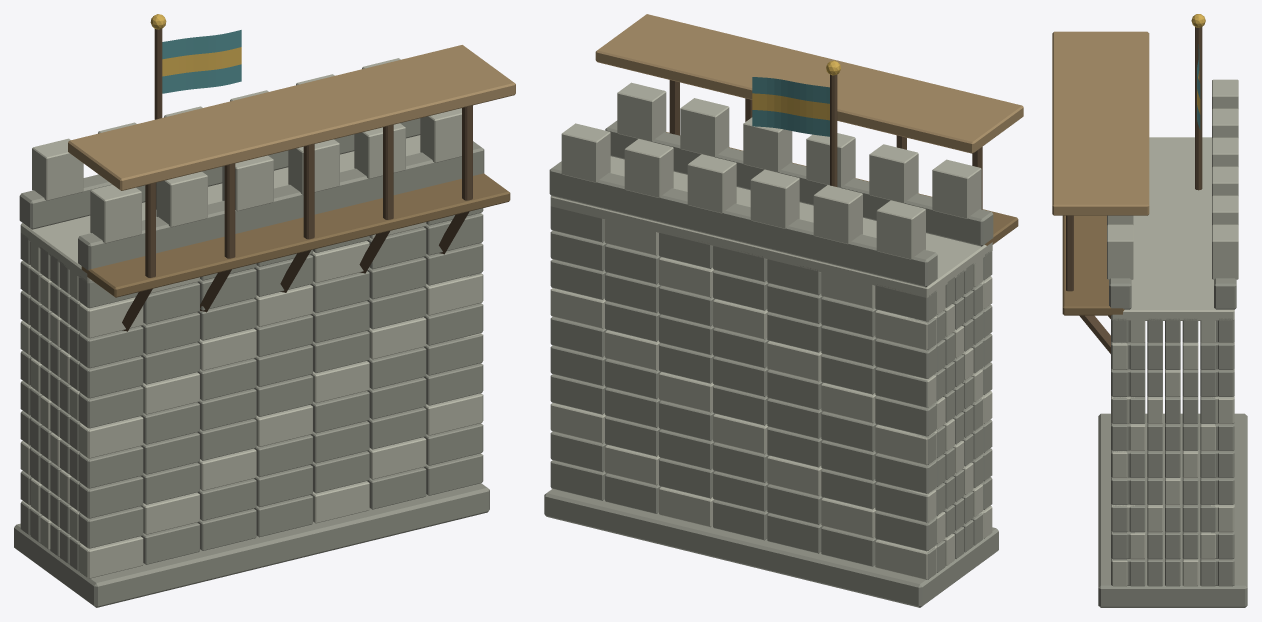
Rendered from castle-wall.glb.
3 renders of one model, left to right at view 1: azimuth 30°, elevation 25°; view 2: azimuth 150°, elevation 25°; view 3: azimuth 270°, elevation 25°, orthographic. The views are drawn at different scales.
Visible parts, largest first — view 1: TimberHoarding_mesh, Battlements_mesh, Foundation_mesh, WallCourse.001_mesh, WallCourse.003_mesh, WallCourse.005_mesh, WallCourse.006_mesh, WallCourse_mesh, WallCourse.002_mesh, WallCourse.004_mesh, WallCourse.007_mesh, WallCourse.008_mesh (+4 smaller); view 2: Battlements_mesh, TimberHoarding_mesh, Foundation_mesh, WallCourse.007_mesh, WallCourse.002_mesh, WallCourse.004_mesh, WallCourse.006_mesh, WallCourse.001_mesh, WallCourse_mesh, WallCourse.003_mesh, WallCourse.005_mesh, WallCourse.008_mesh (+4 smaller); view 3: TimberHoarding_mesh, WallWalk_mesh, Foundation_mesh, Battlements_mesh, WallCourse.002_mesh, WallCourse.001_mesh, WallCourse.008_mesh, WallCourse_mesh, WallCourse.003_mesh, WallCourse.004_mesh, WallCourse.005_mesh, WallCourse.006_mesh (+3 smaller).
Part boxes in pixels (bbox=[...]): TimberHoarding_mesh: bbox=[68, 45, 515, 331]; Battlements_mesh: bbox=[19, 58, 484, 270]; Foundation_mesh: bbox=[14, 483, 489, 607]; WallCourse.001_mesh: bbox=[20, 423, 483, 548]; WallCourse.003_mesh: bbox=[20, 363, 483, 488]; WallCourse.005_mesh: bbox=[20, 303, 483, 428]; WallCourse.006_mesh: bbox=[20, 273, 483, 398]; WallCourse_mesh: bbox=[20, 453, 483, 578]; WallCourse.002_mesh: bbox=[20, 393, 483, 518]; WallCourse.004_mesh: bbox=[20, 333, 483, 458]; WallCourse.007_mesh: bbox=[20, 243, 483, 368]; WallCourse.008_mesh: bbox=[20, 213, 483, 338]; Battlements_mesh: bbox=[549, 82, 993, 287]; TimberHoarding_mesh: bbox=[595, 14, 1023, 245]; Foundation_mesh: bbox=[544, 488, 998, 607]; WallCourse.007_mesh: bbox=[550, 259, 992, 378]; WallCourse.002_mesh: bbox=[550, 403, 992, 522]; WallCourse.004_mesh: bbox=[550, 345, 992, 465]; WallCourse.006_mesh: bbox=[550, 288, 992, 407]; WallCourse.001_mesh: bbox=[550, 431, 992, 551]; WallCourse_mesh: bbox=[550, 460, 992, 579]; WallCourse.003_mesh: bbox=[550, 374, 992, 493]; WallCourse.005_mesh: bbox=[550, 316, 992, 436]; WallCourse.008_mesh: bbox=[550, 230, 992, 350]; TimberHoarding_mesh: bbox=[1052, 31, 1149, 353]; WallWalk_mesh: bbox=[1111, 137, 1234, 320]; Foundation_mesh: bbox=[1098, 413, 1247, 607]; Battlements_mesh: bbox=[1107, 79, 1238, 309]; WallCourse.002_mesh: bbox=[1111, 504, 1234, 532]; WallCourse.001_mesh: bbox=[1111, 531, 1234, 559]; WallCourse.008_mesh: bbox=[1111, 342, 1234, 369]; WallCourse_mesh: bbox=[1111, 558, 1234, 586]; WallCourse.003_mesh: bbox=[1111, 477, 1234, 504]; WallCourse.004_mesh: bbox=[1111, 450, 1234, 477]; WallCourse.005_mesh: bbox=[1111, 423, 1234, 450]; WallCourse.006_mesh: bbox=[1111, 396, 1234, 423].
Bounding box in the file's own units: 4 × 5.07 × 1.9.
